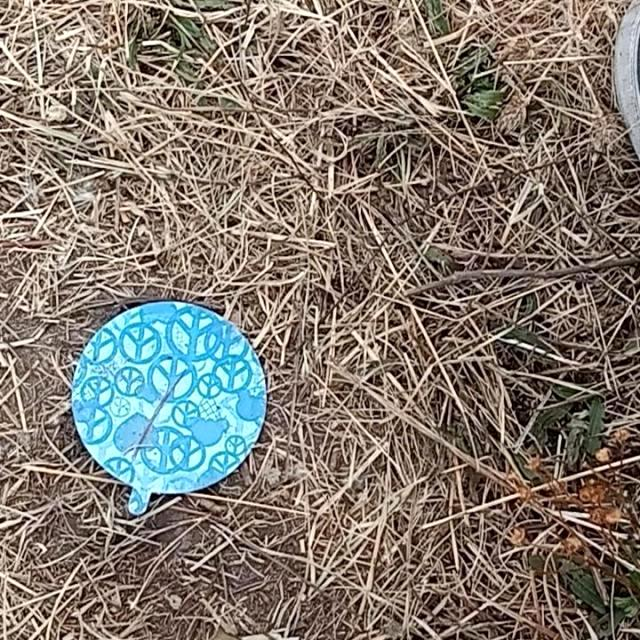Paper: (68, 297, 268, 517)
